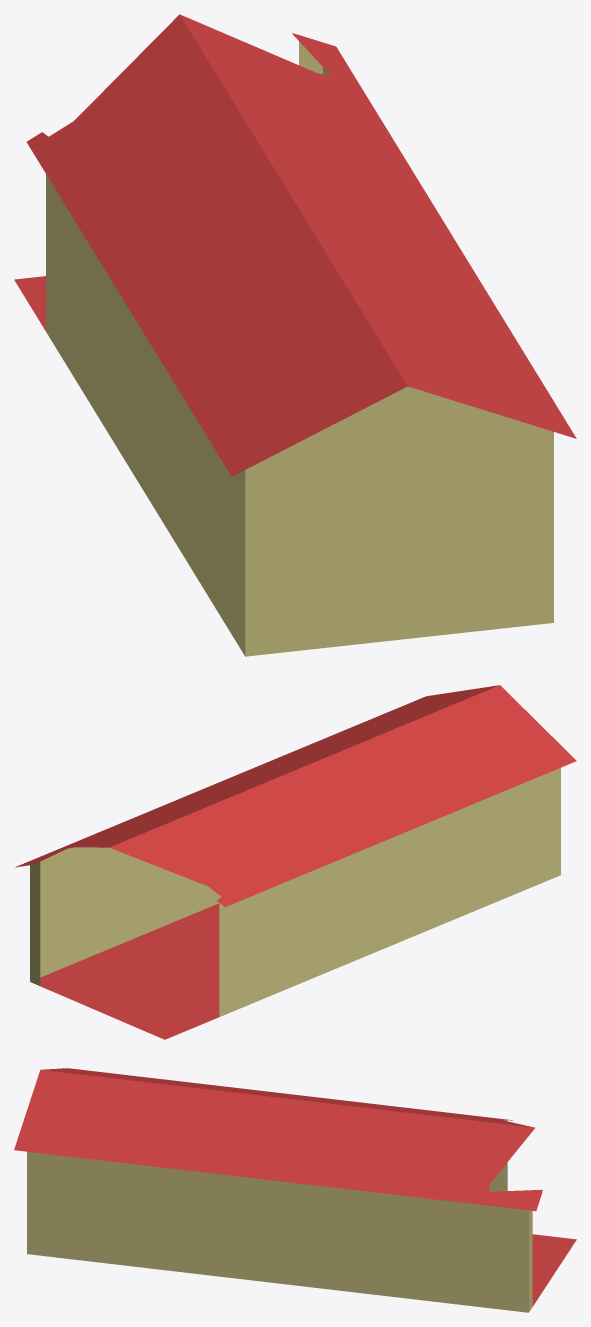
3 views of the same model, one above another, from view 1: azimuth 30°, elevation 25°; view 2: azimuth 150°, elevation 25°; view 3: azimuth 270°, elevation 25° (orthographic). The views are drawn at different scales.
Size of the model in its own units: 24 by 39.89 by 11.51.
